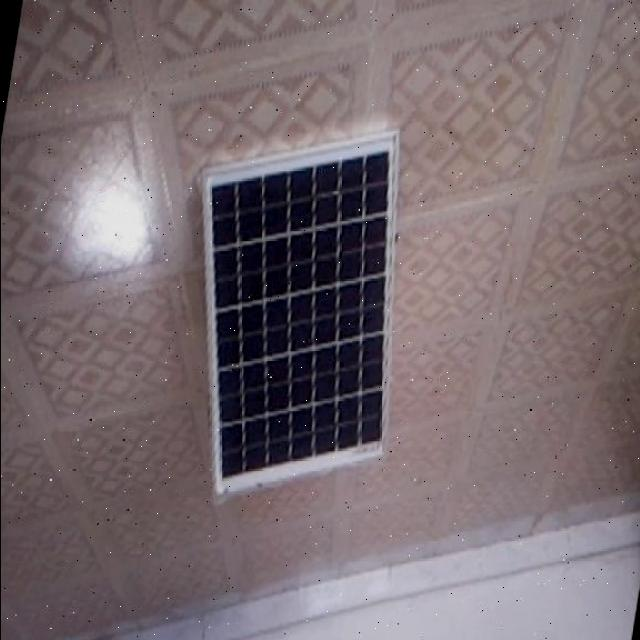Normal Solar Panel: (156, 112, 436, 520)
